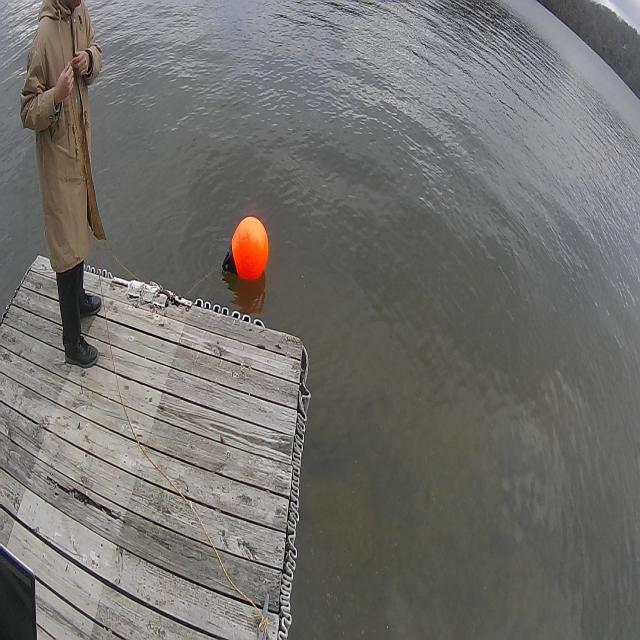Buoy: (221, 212, 271, 288)
